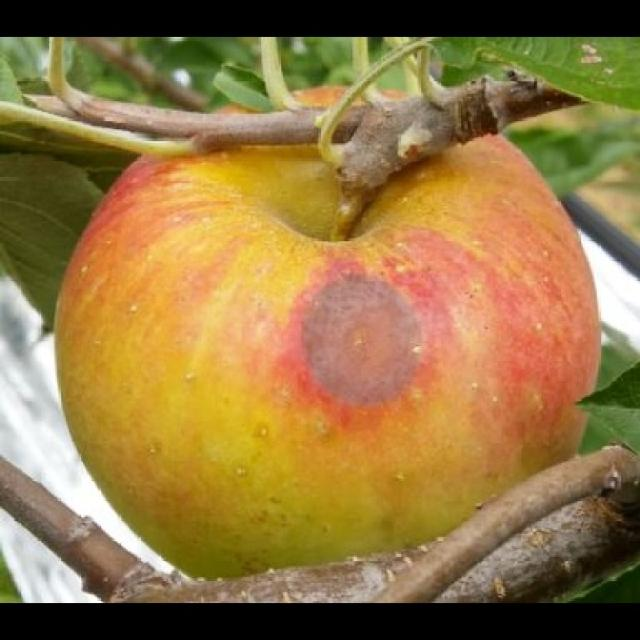Rotten Apple: (52, 81, 608, 578)
